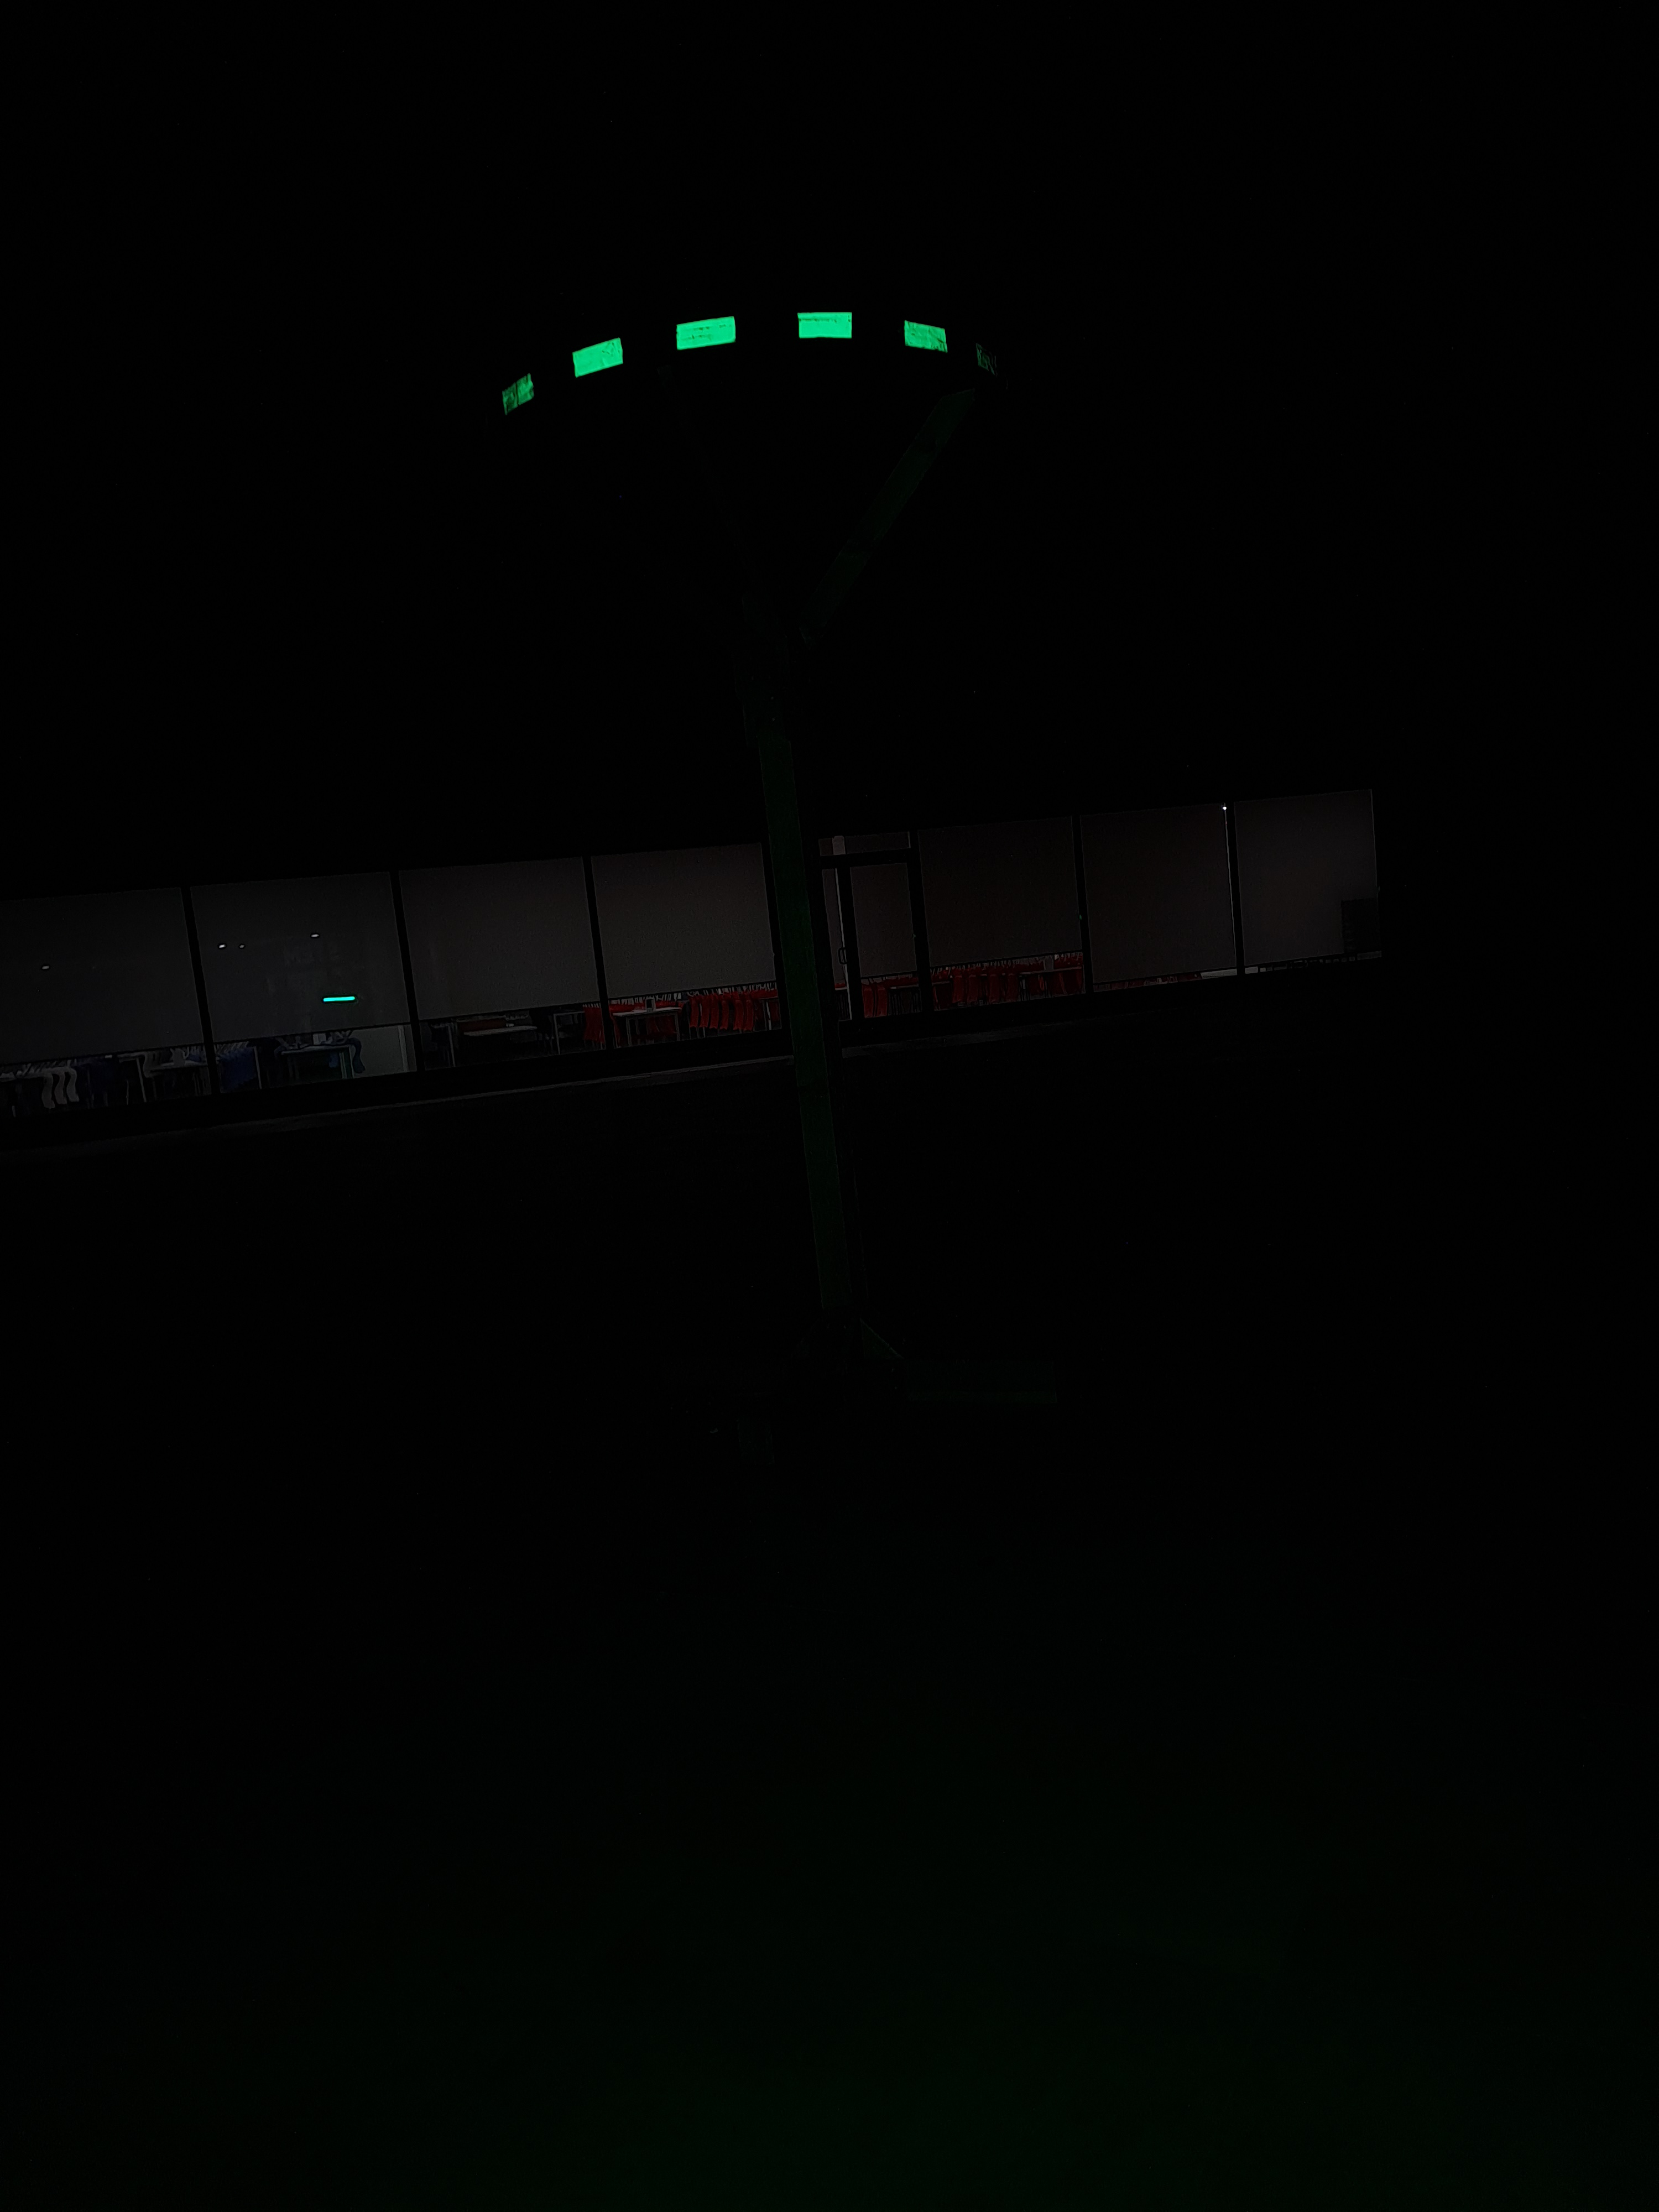hoop: (484, 308, 1004, 416)
